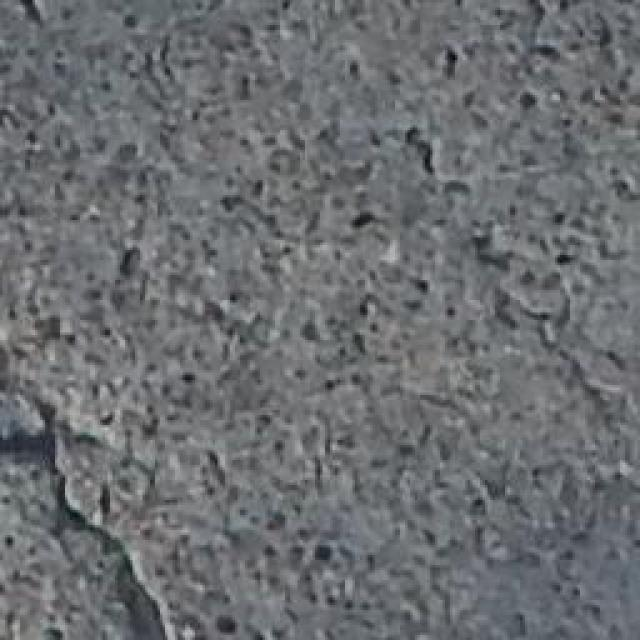concrete-crack: (0, 368, 173, 640)
